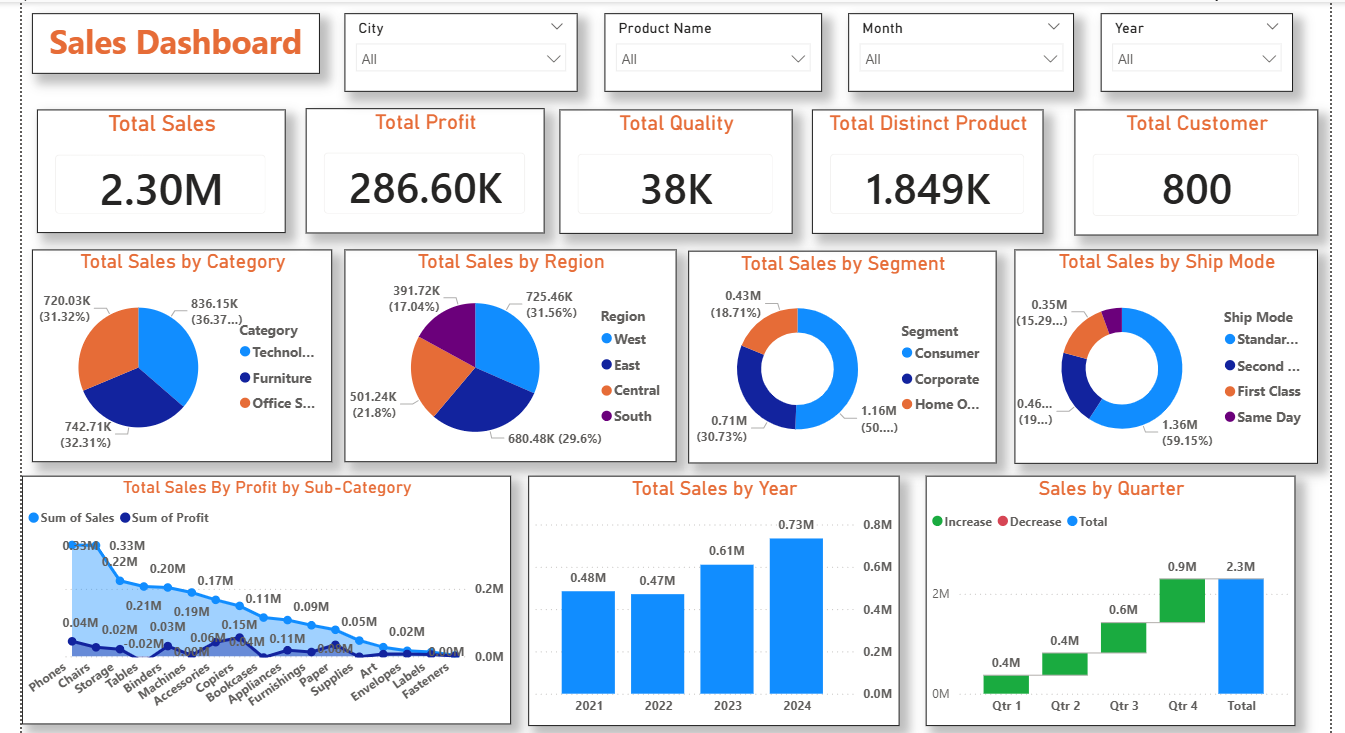

This screenshot's page, from the dashboard's own definition file:
{"tool":"powerbi","page":{"name":"Page 1","canvas":[1280,720],"ordinal":0},"visuals":[{"type":"pieChart","title":"Total Sales by Category","fields":{"Y":["Sum(Sales Data.Sales)"],"Category":["Sales Data.Category"]},"box":[9.2,241.5,293.8,207.7],"z":0},{"type":"pieChart","title":"Total Sales by Region","fields":{"Y":["Sum(Sales Data.Sales)"],"Category":["Sales Data.Region"]},"box":[315.4,241.5,324.6,207.7],"z":1000},{"type":"donutChart","title":"Total Sales by Segment","fields":{"Y":["Sum(Sales Data.Sales)"],"Category":["Sales Data.Segment"]},"box":[652.3,243.1,301.5,207.7],"z":2000},{"type":"donutChart","title":"Total Sales by Ship Mode","fields":{"Y":["Sum(Sales Data.Sales)"],"Category":["Sales Data.Ship Mode"]},"box":[970.8,241.5,296.9,209.2],"z":3000},{"type":"lineChart","title":"Total Sales By Profit by Sub-Category","fields":{"Y":["Sum(Sales Data.Sales)","Sum(Sales Data.Profit)"],"Category":["Sales Data.Sub-Category"]},"box":[0,463.1,478.5,243.1],"z":4000},{"type":"columnChart","title":"Total Sales by Year","fields":{"Y":["Sum(Sales Data.Sales)"],"Category":["Sales Data.Order Date.Variation.Date Hierarchy.Year"]},"box":[495.4,463.1,363.1,244.6],"z":5000},{"type":"waterfallChart","title":" Sales by Quarter","fields":{"Category":["Sales Data.Ship Date.Variation.Date Hierarchy.Quarter"],"Y":["Sum(Sales Data.Sales)"]},"box":[884.6,463.1,361.5,244.6],"z":6000},{"type":"cardVisual","title":"Total Sales","fields":{"Data":["Sum(Sales Data.Sales)"]},"box":[15.1,105.7,242.9,120.8],"z":7000},{"type":"cardVisual","title":"Total Profit","fields":{"Data":["Sum(Sales Data.Profit)"]},"box":[277.2,104.3,233.3,122.1],"z":8000},{"type":"cardVisual","title":"Total Quality","fields":{"Data":["Sum(Sales Data.Quantity)"]},"box":[526.2,104.6,227.7,121.5],"z":9000},{"type":"cardVisual","title":"Total Distinct Product","fields":{"Data":["Count(Sales Data.Product Name)"]},"box":[772.3,104.6,226.2,121.5],"z":10000},{"type":"cardVisual","title":"Total Customer","fields":{"Data":["Count(Sales Data.Customer ID)"]},"box":[1029.2,104.6,238.5,123.1],"z":11000},{"type":"slicer","fields":{"Values":["Sales Data.City"]},"box":[315.6,11,227.8,76.8],"z":12000},{"type":"slicer","fields":{"Values":["Sales Data.Product Name"]},"box":[569.5,11,212.7,76.8],"z":13000},{"type":"slicer","fields":{"Values":["Sales Data.Order Date.Variation.Date Hierarchy.Month"]},"box":[808.2,11,220.9,76.8],"z":14000},{"type":"slicer","fields":{"Values":["Sales Data.Order Date.Variation.Date Hierarchy.Year"]},"box":[1055.2,11,188,76.8],"z":15000},{"type":"textbox","box":[9.6,11,281.3,59],"z":16000}]}

Visuals, with their boxes in screenshot pixels (x1, y1, x2, y2):
"Total Sales by Category" pieChart: x1=20 y1=248 x2=325 y2=463
"Total Sales by Region" pieChart: x1=338 y1=248 x2=676 y2=463
"Total Sales by Segment" donutChart: x1=689 y1=249 x2=1002 y2=465
"Total Sales by Ship Mode" donutChart: x1=1020 y1=248 x2=1328 y2=465
"Total Sales By Profit by Sub-Category" lineChart: x1=11 y1=478 x2=508 y2=731
"Total Sales by Year" columnChart: x1=525 y1=478 x2=903 y2=732
" Sales by Quarter" waterfallChart: x1=930 y1=478 x2=1306 y2=732
"Total Sales" cardVisual: x1=26 y1=106 x2=279 y2=232
"Total Profit" cardVisual: x1=299 y1=105 x2=541 y2=232
"Total Quality" cardVisual: x1=558 y1=105 x2=794 y2=232
"Total Distinct Product" cardVisual: x1=813 y1=105 x2=1048 y2=232
"Total Customer" cardVisual: x1=1080 y1=105 x2=1328 y2=233
slicer - Sales Data.City: x1=339 y1=8 x2=575 y2=88
slicer - Sales Data.Product Name: x1=603 y1=8 x2=824 y2=88
slicer - Sales Data.Order Date.Variation.Date Hierarchy.Month: x1=851 y1=8 x2=1080 y2=88
slicer - Sales Data.Order Date.Variation.Date Hierarchy.Year: x1=1107 y1=8 x2=1303 y2=88
textbox: x1=20 y1=8 x2=313 y2=69
